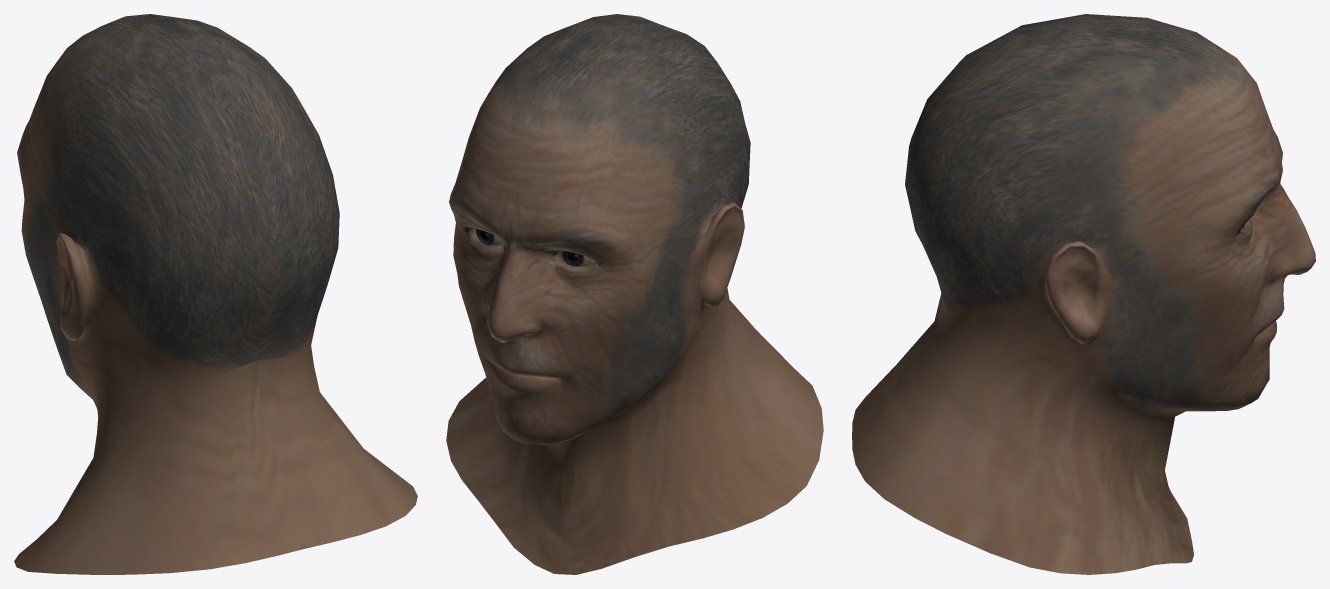
Rendered from G3_Head_Hero_Myrtana_Animated_03_S25.obj.
The picture shows the model from 3 angles, left to right: view 1: azimuth 30°, elevation 25°; view 2: azimuth 150°, elevation 25°; view 3: azimuth 270°, elevation 25°; orthographic projection. The views are drawn at different scales.
Parts seen in each view (by area): view 1: G3_Animation_Head_Main_03; view 2: G3_Animation_Head_Main_03; view 3: G3_Animation_Head_Main_03.
Part boxes in pixels (x1,y1,x2,y2): G3_Animation_Head_Main_03: (14,14,417,574); G3_Animation_Head_Main_03: (446,14,823,574); G3_Animation_Head_Main_03: (852,14,1315,574).
Size of the model in its own units: 0.2428 by 0.3384 by 0.2688.
